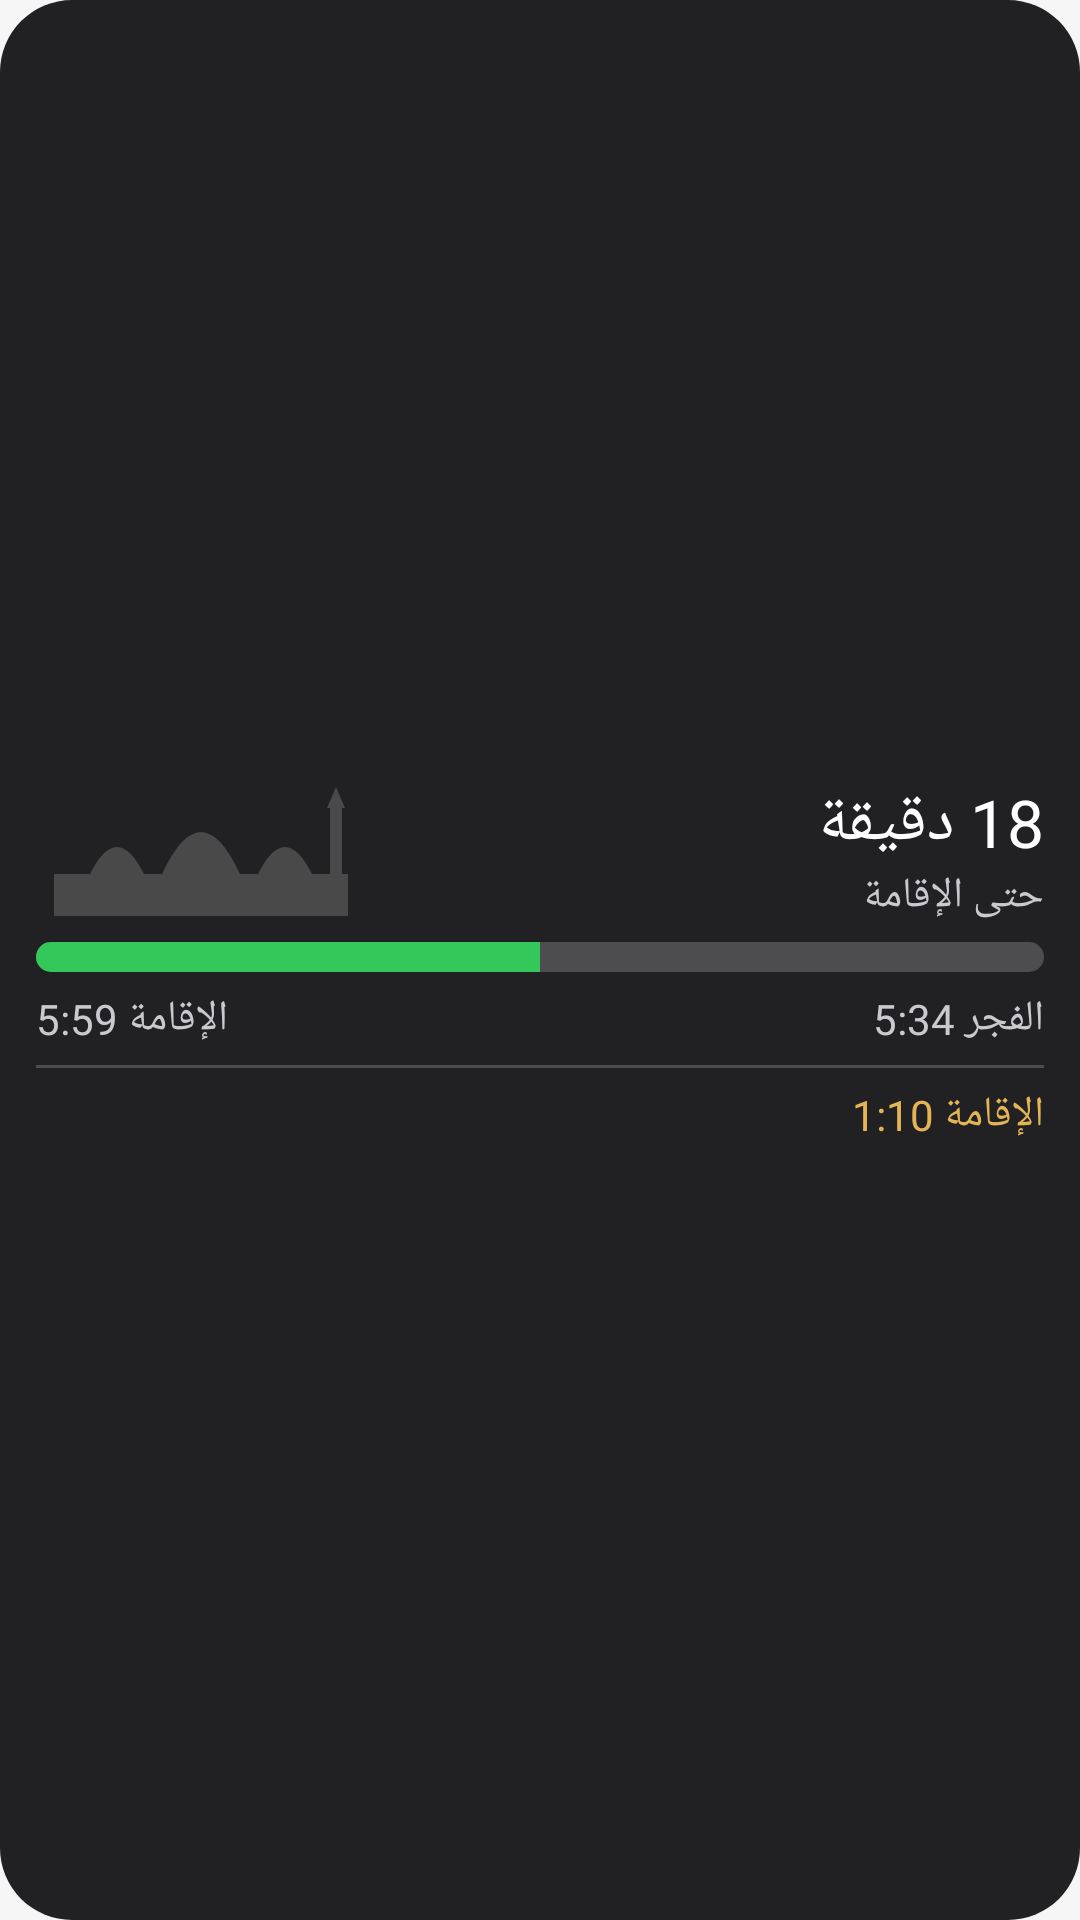

Named icons in this screenshot (1080×1920) and their bounding boxes, bbox=[x1, y1, x2, y2]:
widget mosque: bbox=[54, 789, 348, 916]
